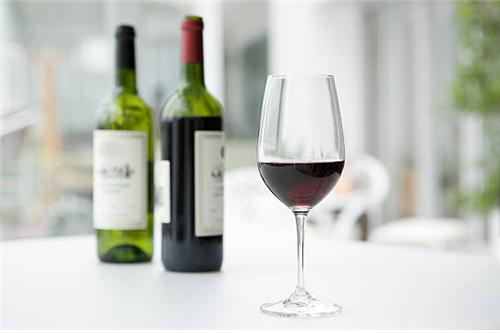alcohol: (258, 71, 346, 315), (155, 14, 226, 273), (92, 24, 150, 263)
